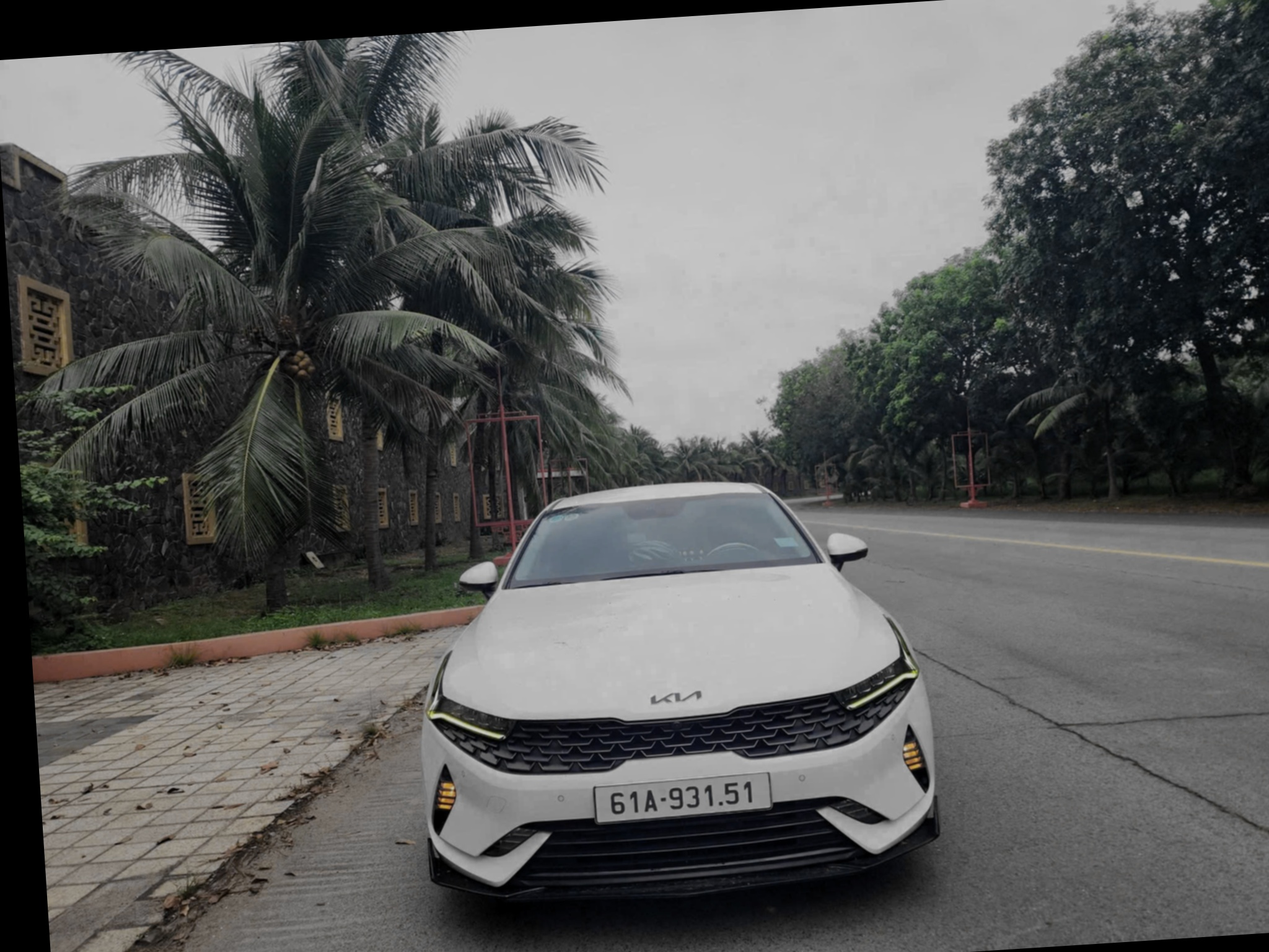Bien-so: (543, 749, 721, 802)
